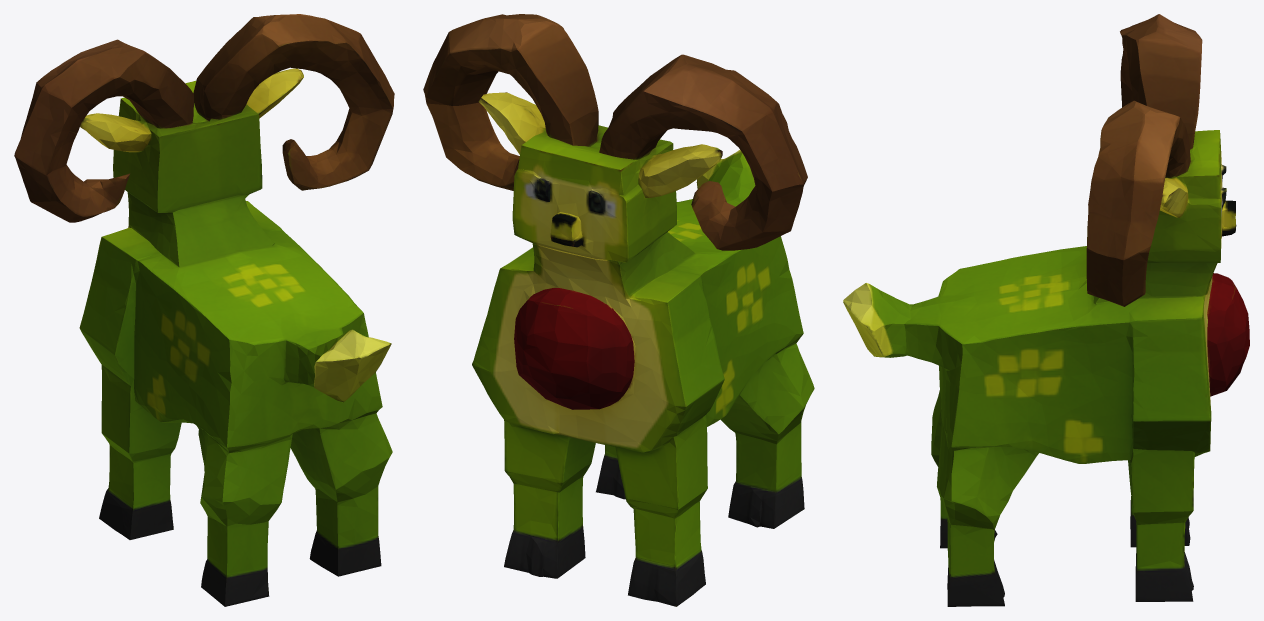
The model's file is CapraAvocadra.glb.
3 renders of one model, left to right at view 1: azimuth 30°, elevation 25°; view 2: azimuth 150°, elevation 25°; view 3: azimuth 270°, elevation 25°, orthographic. The views are drawn at different scales.
Visible parts, largest first — view 1: geometry_0; view 2: geometry_0; view 3: geometry_0.
Part boxes in pixels (box(x1,y1,x2,y2)): geometry_0: box(14, 14, 394, 606); geometry_0: box(423, 14, 814, 606); geometry_0: box(843, 14, 1249, 606).
Bounding box in the file's own units: 0.7872 × 1 × 0.7426.
Materials: 1 (1 with a texture image).
